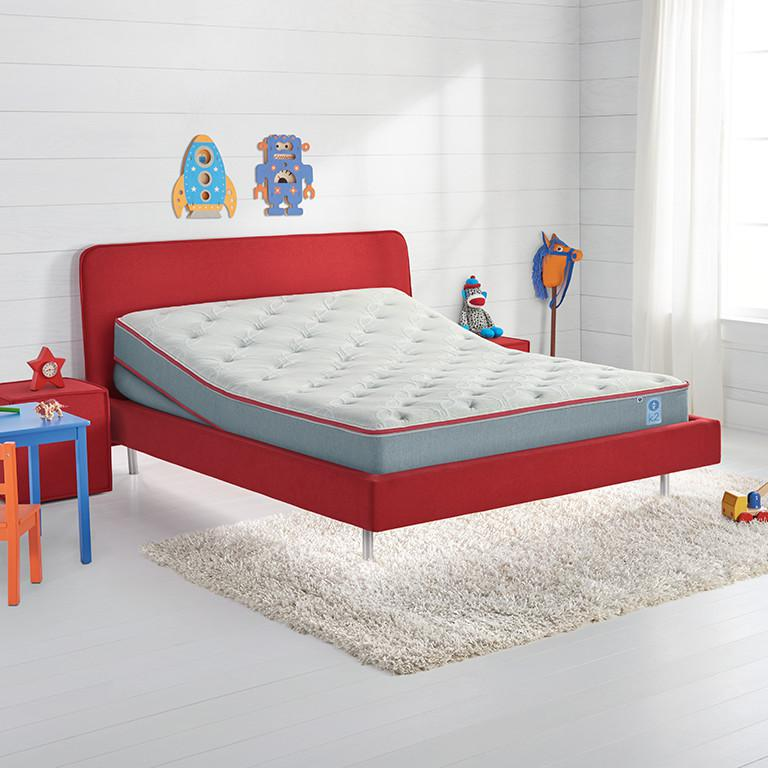bed: (56, 228, 742, 563)
